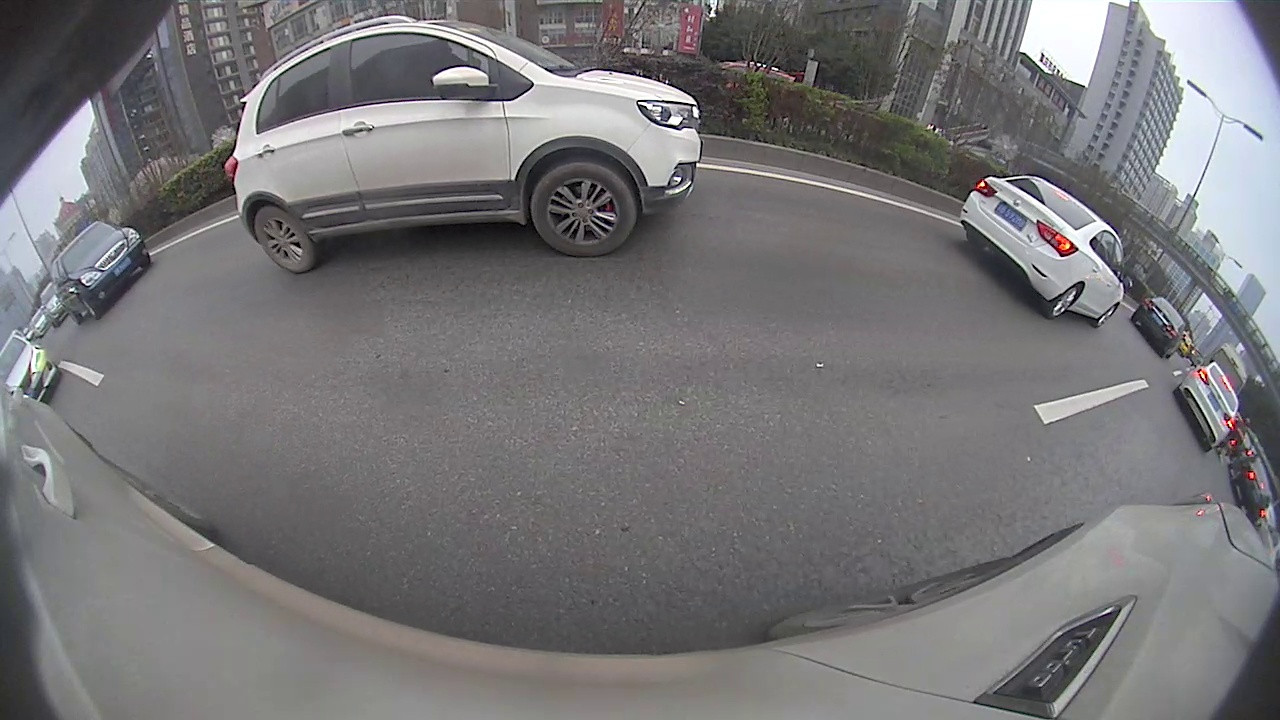bus: (2, 211, 241, 383), (1154, 214, 1267, 353)
car: (1115, 267, 1267, 373), (60, 285, 187, 343), (1215, 346, 1267, 419), (770, 157, 838, 199), (834, 168, 897, 207)
front: (1134, 288, 1160, 316)
rear: (790, 180, 801, 195), (853, 188, 861, 202)
